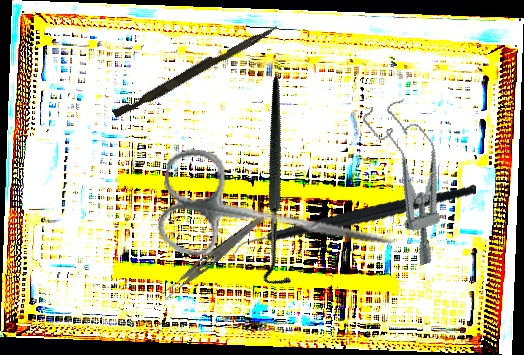Chopper: (228, 155, 477, 291)
Dressing Forceps: (159, 211, 265, 303)
Hook Surgical: (185, 76, 375, 293)
Iris Scissors: (152, 145, 404, 289)
Pusher: (112, 18, 279, 123)
Speculum: (359, 92, 467, 270)
